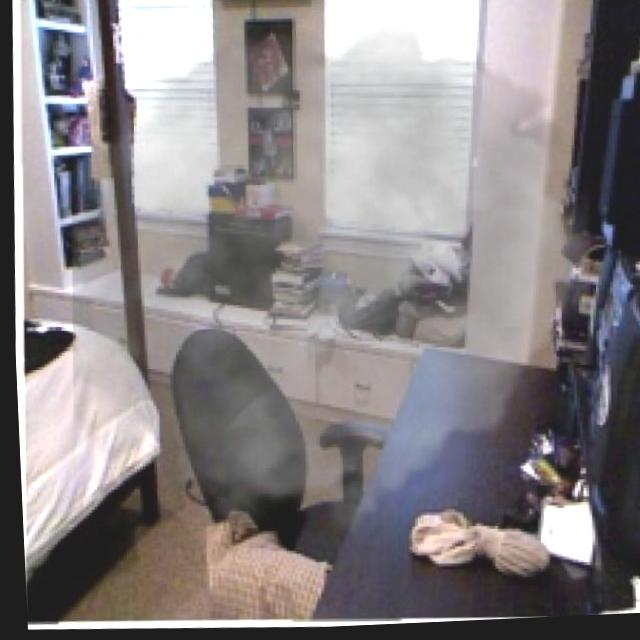no_helmet: (68, 0, 585, 555)
